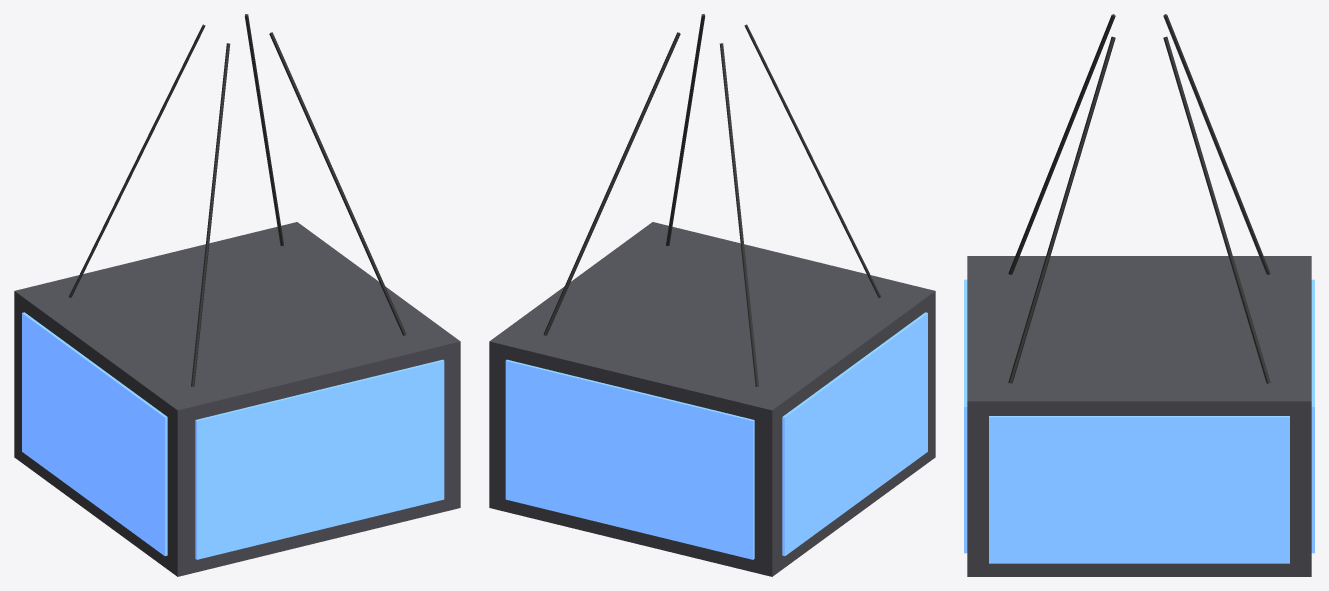
Rendered from scoreboard_cube.glb.
The picture shows the model from 3 angles, left to right: view 1: azimuth 30°, elevation 25°; view 2: azimuth 150°, elevation 25°; view 3: azimuth 270°, elevation 25°; orthographic projection. The views are drawn at different scales.
Parts seen in each view (by area): view 1: ScoreboardCube; view 2: ScoreboardCube; view 3: ScoreboardCube.
Boxes of the visible parts, x1,y1,x2,y2 form: ScoreboardCube: (14,14,460,576); ScoreboardCube: (489,14,935,576); ScoreboardCube: (964,14,1314,576).
Size of the model in its own units: 3.26 by 4.91 by 3.26.
